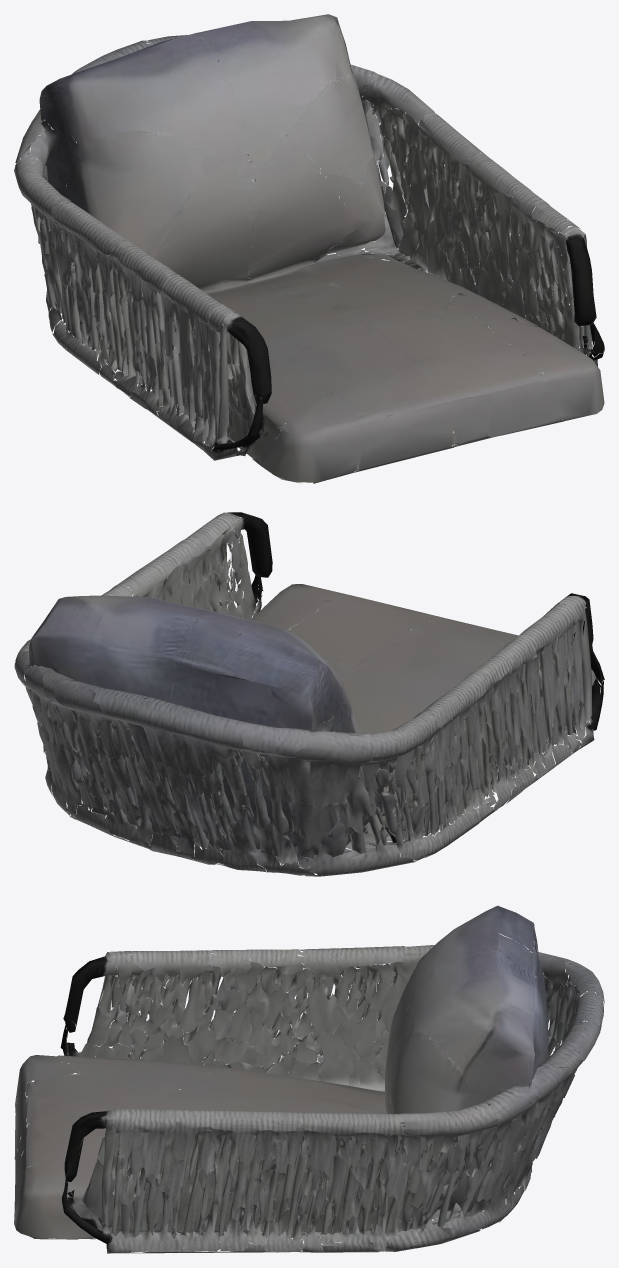
The model's file is gen_balcony_chair_tripo.web.glb.
3 views of the same model, one above another, from view 1: azimuth 30°, elevation 25°; view 2: azimuth 150°, elevation 25°; view 3: azimuth 270°, elevation 25° (orthographic). The views are drawn at different scales.
Parts seen in each view (by area): view 1: tripo_node_5b657540-ec47-4f94-b7aa-7918cd42a345; view 2: tripo_node_5b657540-ec47-4f94-b7aa-7918cd42a345; view 3: tripo_node_5b657540-ec47-4f94-b7aa-7918cd42a345.
Part boxes in pixels (bbox=[...]): tripo_node_5b657540-ec47-4f94-b7aa-7918cd42a345: bbox=[14, 14, 604, 483]; tripo_node_5b657540-ec47-4f94-b7aa-7918cd42a345: bbox=[14, 512, 604, 876]; tripo_node_5b657540-ec47-4f94-b7aa-7918cd42a345: bbox=[14, 905, 604, 1253].
Size of the model in its own units: 1.51 by 0.8502 by 2.1.
1 material, 1 textured.
